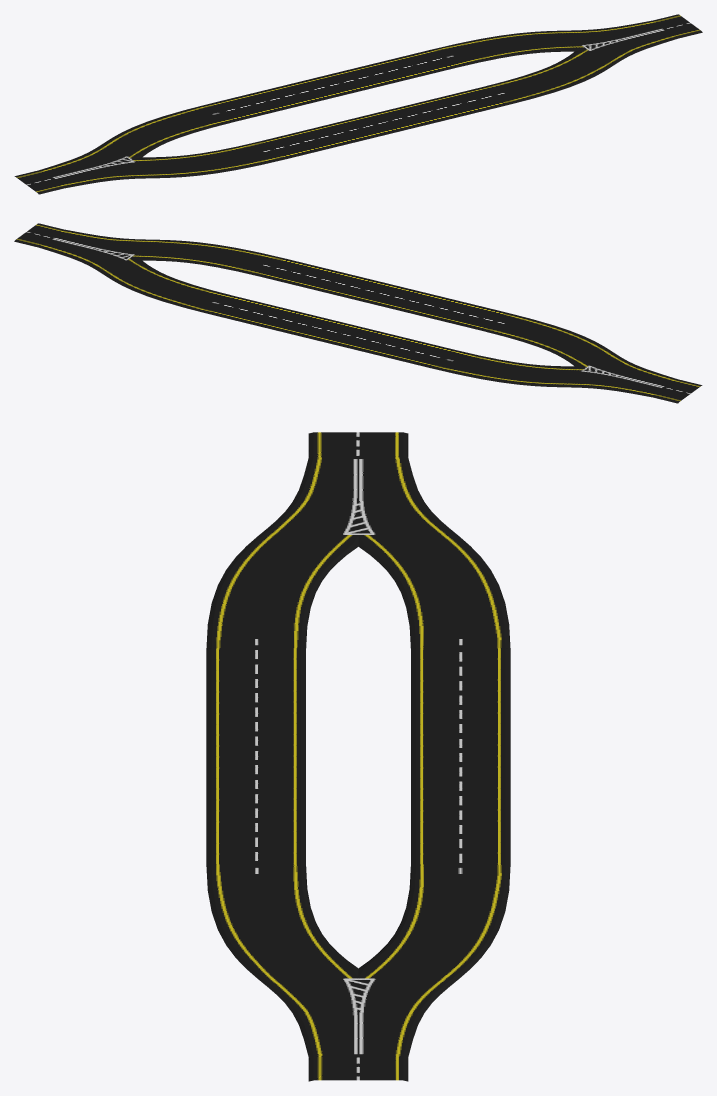
File: SM_Split.fbx
3 views of the same model, one above another, from view 1: azimuth 30°, elevation 25°; view 2: azimuth 150°, elevation 25°; view 3: azimuth 270°, elevation 25° (orthographic). The views are drawn at different scales.
Visible parts, largest first — view 1: SM_RoadSplit; view 2: SM_RoadSplit; view 3: SM_RoadSplit.
Boxes of the visible parts, x1=… form: SM_RoadSplit: x1=14, y1=14, x2=702, y2=194; SM_RoadSplit: x1=14, y1=223, x2=702, y2=403; SM_RoadSplit: x1=206, y1=432, x2=510, y2=1081.
Bounding box in the file's own units: 2380 × 12000 × 10.
1 material, 1 textured.
